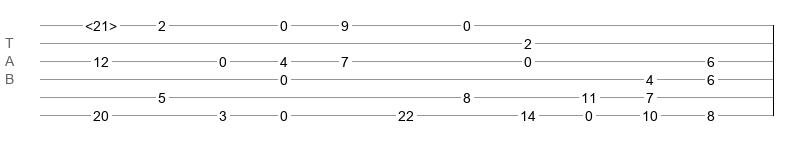0: (219, 54, 227, 64), (280, 108, 288, 118), (280, 72, 288, 82), (280, 18, 288, 28), (463, 18, 471, 28), (524, 54, 532, 64), (585, 108, 593, 118)
10: (642, 108, 658, 118)
11: (581, 90, 597, 100)
12: (93, 54, 109, 64)
14: (520, 108, 536, 118)
2: (158, 18, 166, 28), (524, 36, 532, 46)
20: (93, 108, 109, 118)
22: (398, 108, 414, 118)
3: (219, 108, 227, 118)
4: (280, 54, 288, 64), (646, 72, 654, 82)
5: (158, 90, 166, 100)
6: (707, 72, 715, 82), (707, 54, 715, 64)
7: (341, 54, 349, 64), (646, 90, 654, 100)
8: (463, 90, 471, 100), (707, 108, 715, 118)
9: (341, 18, 349, 28)
harmonic: (85, 18, 117, 28)
